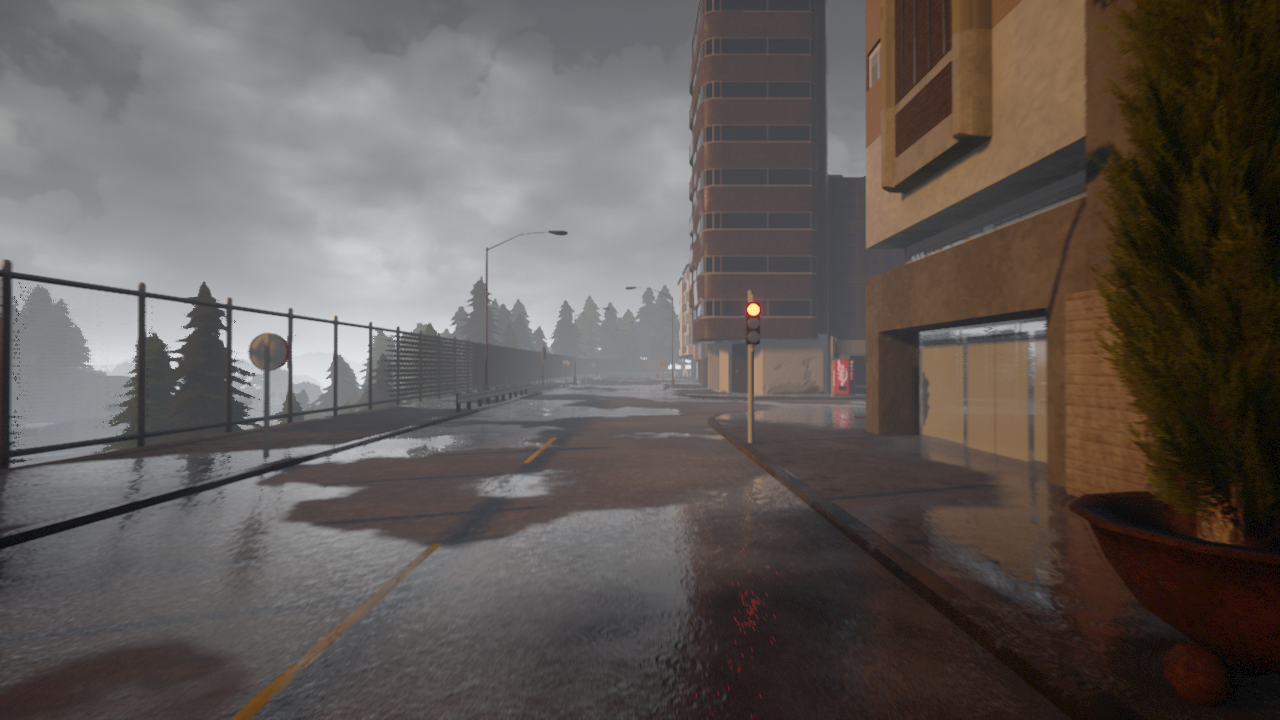red: (745, 302, 760, 348)
